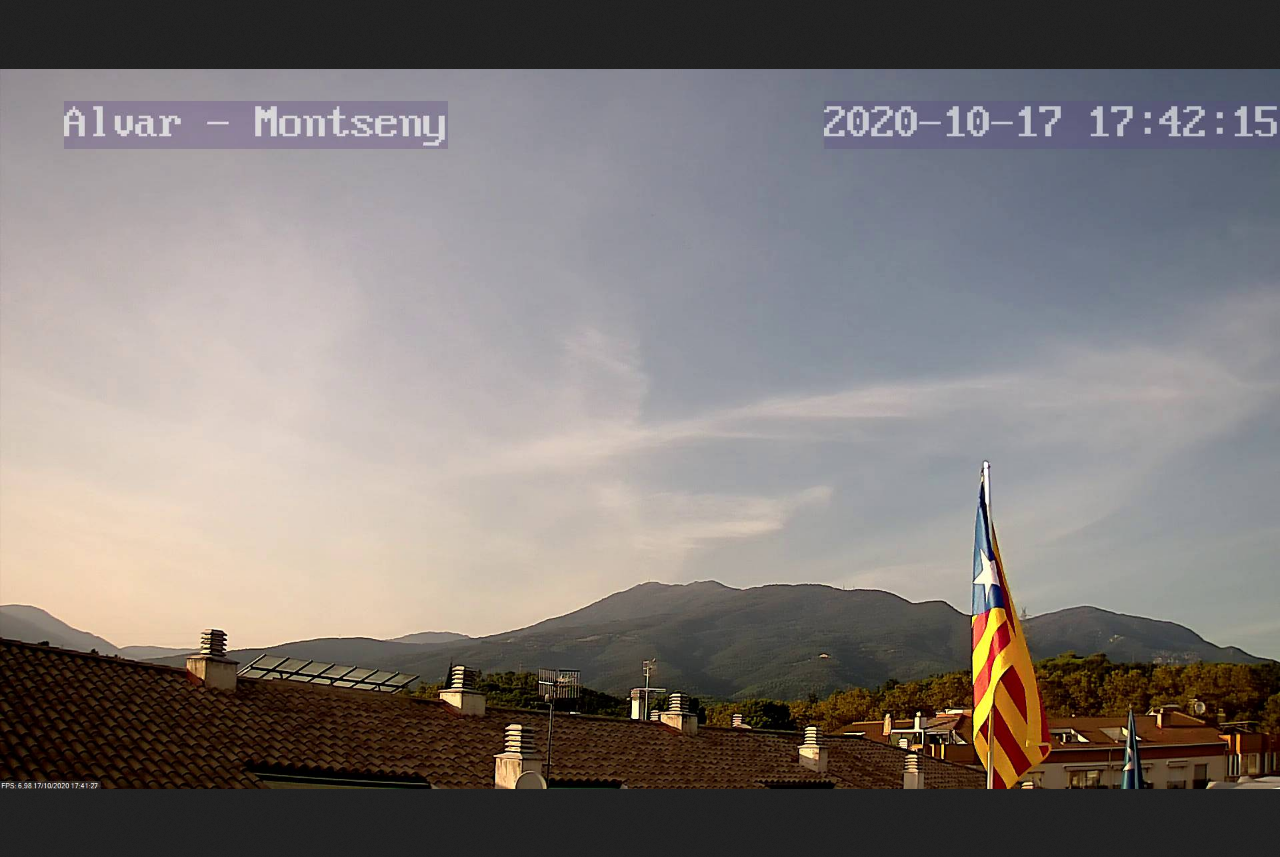no: (970, 482, 1052, 791)
